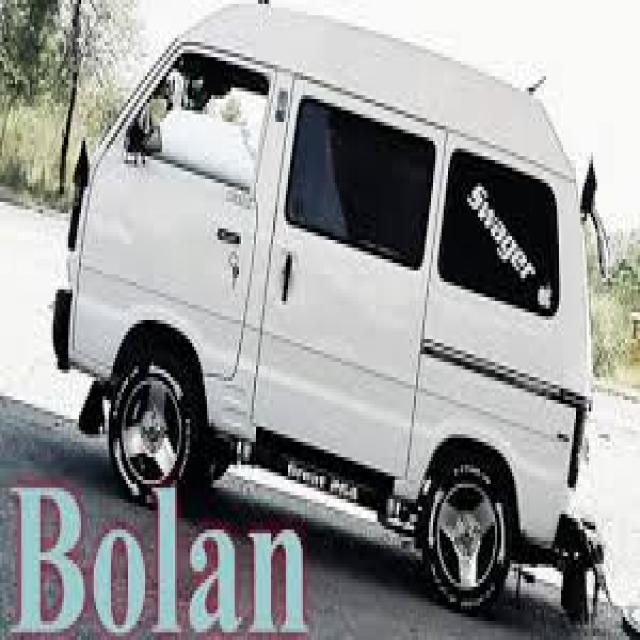Van: (51, 19, 619, 629)
